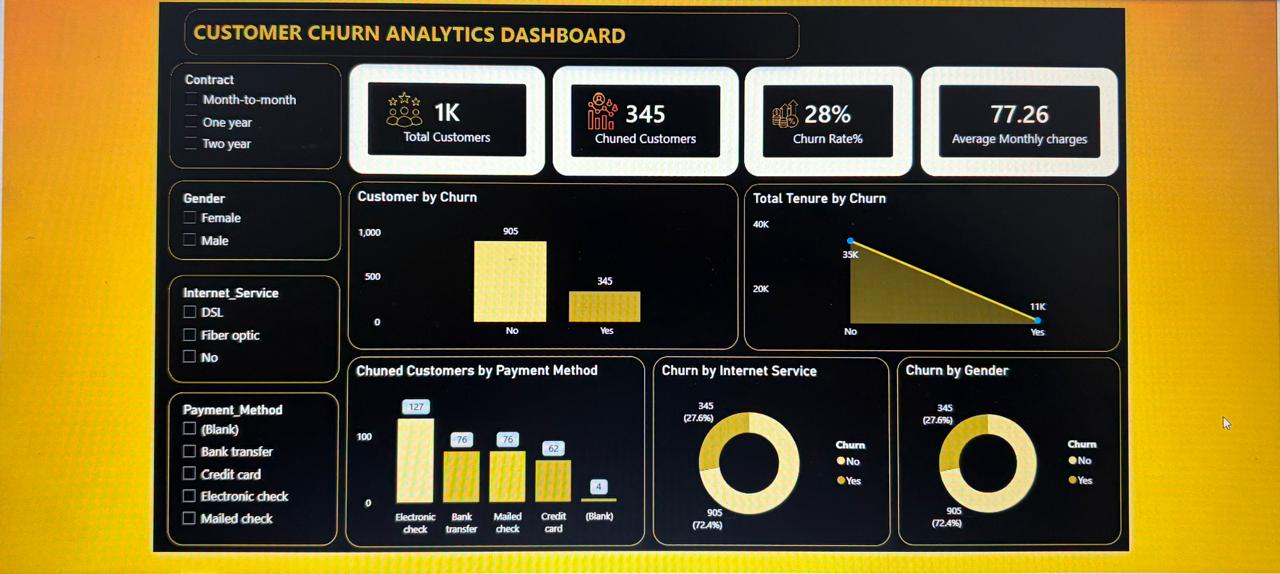

The page's visual inventory and layout, read from the dashboard file:
{"tool":"powerbi","page":{"name":"Page 1","canvas":[1280,720],"ordinal":0},"visuals":[{"type":"cardVisual","fields":{"Data":["Customer_Churn.Total Customers"]},"box":[250.6,81.2,256.5,144.7],"z":0},{"type":"cardVisual","fields":{"Data":["Customer_Churn.Chuned Customers"]},"box":[517.6,81.3,247.1,144.7],"z":1000},{"type":"cardVisual","fields":{"Data":["Customer_Churn.Churn Rate%"]},"box":[772.5,81.3,221.5,144.7],"z":2000},{"type":"cardVisual","fields":{"Data":["Customer_Churn.Average Monthly charges"]},"box":[1006.2,80.8,263,144.8],"z":3000},{"type":"textbox","box":[34.5,8.9,811.5,61.2],"z":4000},{"type":"clusteredColumnChart","title":"Customer  by Churn","fields":{"Category":["Customer_Churn.Churn"],"Y":["CountNonNull(Customer_Churn.Contract)"]},"box":[250.6,236.5,514.1,220],"z":6000},{"type":"lineClusteredColumnComboChart","title":"Chuned Customers by Payment Method","fields":{"Category":["Customer_Churn.Payment_Method"],"Y":["Customer_Churn.Chuned Customers"]},"box":[250.6,464.7,390.6,245.9],"z":7000},{"type":"donutChart","title":"Churn by Internet Service","fields":{"Category":["Customer_Churn.Churn"],"Y":["CountNonNull(Customer_Churn.Internet_Service)"]},"box":[651.2,466.4,311.7,246],"z":9000},{"type":"donutChart","title":"Churn by Gender","fields":{"Category":["Customer_Churn.Churn"],"Y":["CountNonNull(Customer_Churn.Gender)"]},"box":[974.1,464.7,295,246],"z":10000},{"type":"slicer","fields":{"Values":["Customer_Churn.Contract"]},"box":[16.5,81.2,223.7,139.1],"z":11000},{"type":"slicer","fields":{"Values":["Customer_Churn.Gender"]},"box":[16.5,236.5,223.7,103.5],"z":12000},{"type":"slicer","fields":{"Values":["Customer_Churn.Internet_Service"]},"box":[17.6,360,222.4,138.8],"z":13000},{"type":"slicer","fields":{"Values":["Customer_Churn.Payment_Method"]},"box":[18.8,511.8,221.2,198.8],"z":14000},{"type":"lineChart","title":"Total Tenure by Churn","fields":{"Category":["Customer_Churn.Churn"],"Y":["Sum(Customer_Churn.Tenure_Months)"]},"box":[772.5,236,496.5,220.4],"z":14001},{"type":"image","box":[292,117,61.5,48.3],"z":14002},{"type":"image","box":[553.8,115.8,60.3,49.5],"z":14003},{"type":"image","box":[807.1,111,39.8,63.9],"z":14004}]}

Visuals, with their boxes in screenshot pixels (x1, y1, x2, y2):
cardVisual - Customer_Churn.Total Customers: <bbox>346, 68, 541, 178</bbox>
cardVisual - Customer_Churn.Chuned Customers: <bbox>549, 68, 736, 178</bbox>
cardVisual - Customer_Churn.Churn Rate%: <bbox>742, 68, 910, 178</bbox>
cardVisual - Customer_Churn.Average Monthly charges: <bbox>919, 68, 1118, 178</bbox>
textbox: <bbox>183, 13, 797, 60</bbox>
"Customer  by Churn" clusteredColumnChart: <bbox>346, 186, 736, 352</bbox>
"Chuned Customers by Payment Method" lineClusteredColumnComboChart: <bbox>346, 359, 642, 545</bbox>
"Churn by Internet Service" donutChart: <bbox>650, 360, 886, 546</bbox>
"Churn by Gender" donutChart: <bbox>895, 359, 1118, 545</bbox>
slicer - Customer_Churn.Contract: <bbox>169, 68, 339, 174</bbox>
slicer - Customer_Churn.Gender: <bbox>169, 186, 339, 264</bbox>
slicer - Customer_Churn.Internet_Service: <bbox>170, 279, 338, 384</bbox>
slicer - Customer_Churn.Payment_Method: <bbox>171, 394, 338, 545</bbox>
"Total Tenure by Churn" lineChart: <bbox>742, 185, 1118, 352</bbox>
image: <bbox>378, 95, 424, 132</bbox>
image: <bbox>576, 94, 622, 132</bbox>
image: <bbox>768, 91, 798, 139</bbox>
